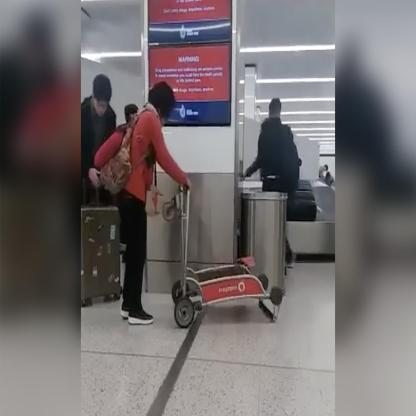airport-trolley: (161, 180, 288, 333)
